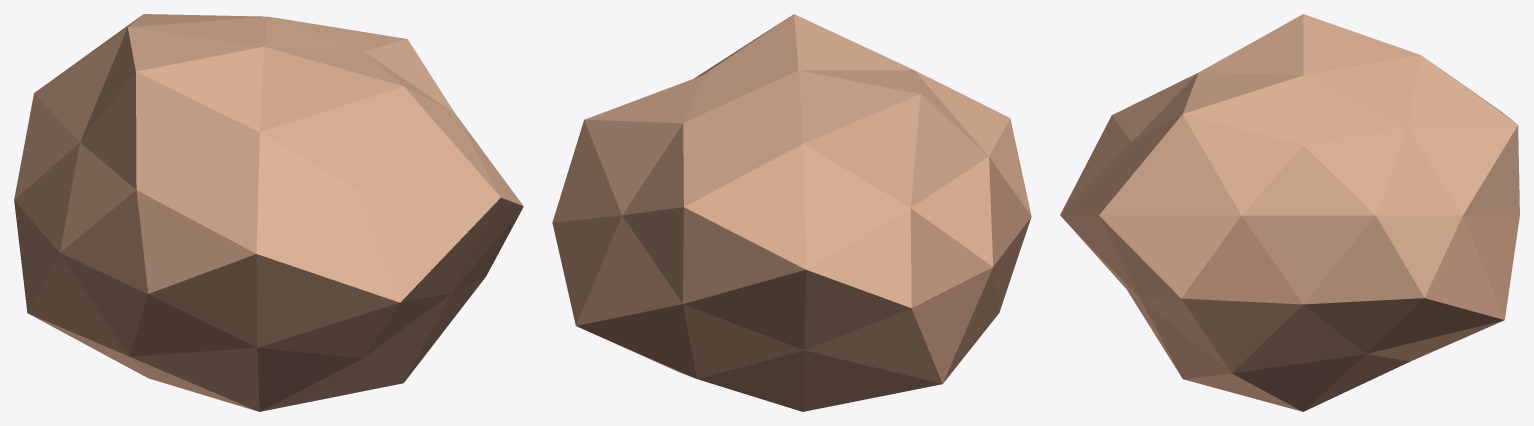
Rendered from rock_red.gltf.
3 views of the same model, side by side, from view 1: azimuth 30°, elevation 25°; view 2: azimuth 150°, elevation 25°; view 3: azimuth 270°, elevation 25° (orthographic). The views are drawn at different scales.
Parts seen in each view (by area): view 1: rock_red; view 2: rock_red; view 3: rock_red.
Part boxes in pixels (x1,y1,x2,y2): rock_red: [14, 14, 523, 411]; rock_red: [552, 14, 1031, 411]; rock_red: [1060, 14, 1519, 411].
Size of the model in its own units: 1.89 by 1.42 by 2.06.
